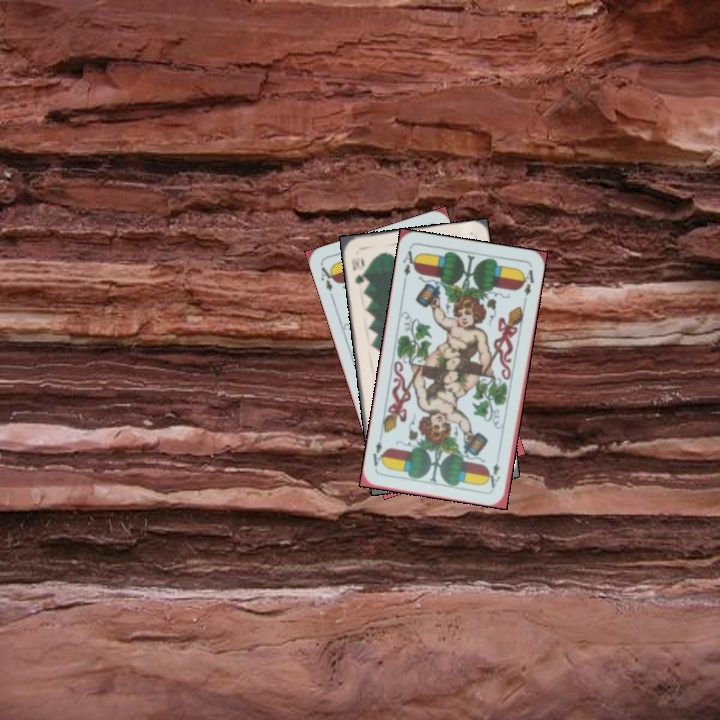EA: (317, 263, 338, 301), (399, 246, 419, 285), (486, 459, 502, 490)
G10: (347, 254, 368, 288)
